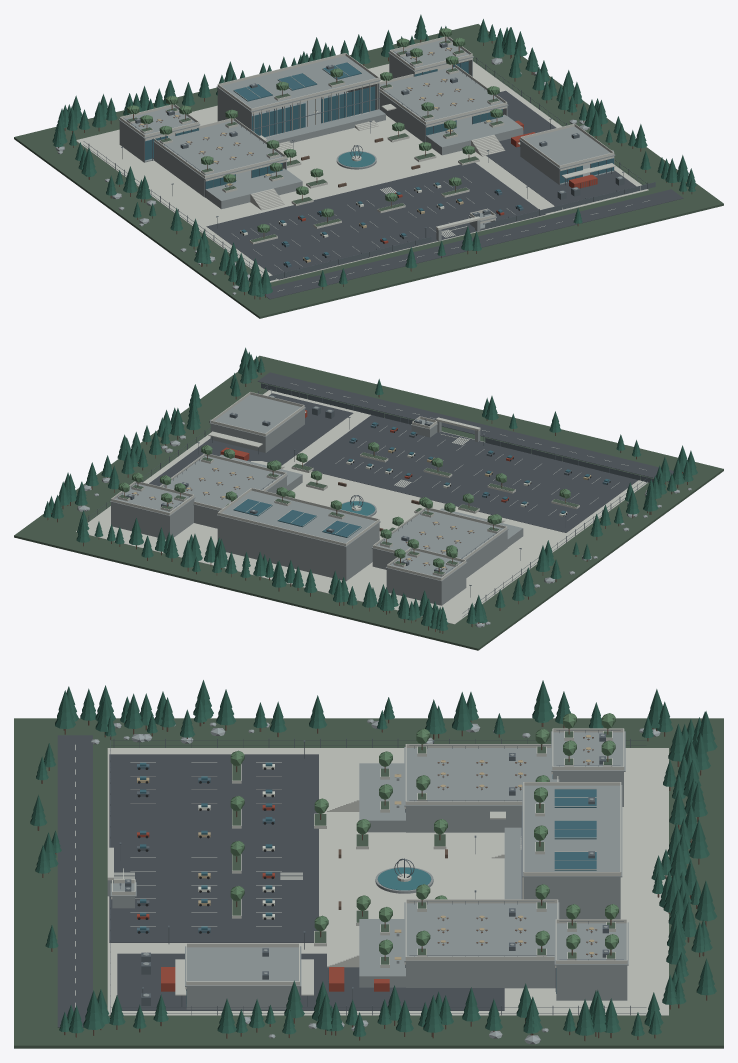
File: Campus.fbx
3 views of the same model, one above another, from view 1: azimuth 30°, elevation 25°; view 2: azimuth 150°, elevation 25°; view 3: azimuth 270°, elevation 25° (orthographic). The views are drawn at different scales.
Visible parts, largest first — view 1: Terrain, ParkingAsphalt, CampusPaving, OuterRoad, EastWing_Roof, ServiceAsphalt, WestWing_Roof, Atrium_Roof, Warehouse_Roof, Terrace, Terrace.001, AtriumEntryDeck (+8 smaller); view 2: Terrain, ParkingAsphalt, CampusPaving, OuterRoad, Atrium_Back, WestWing_Roof, EastWing_Roof, ServiceAsphalt, Atrium_Roof, Warehouse_Roof, EastAnnex_Back, WestAnnex_Back (+8 smaller); view 3: Terrain, ParkingAsphalt, CampusPaving, OuterRoad, EastWing_Roof, ServiceAsphalt, WestWing_Roof, Atrium_Roof, Warehouse_Roof, EastWing_Side.001, Atrium_Side.001, WestWing_Side.001 (+14 smaller).
Boxes of the visible parts, box(x1,y1,x2,y2) form: Terrain: box(14, 24, 723, 318); ParkingAsphalt: box(206, 162, 545, 279); CampusPaving: box(76, 61, 648, 282); OuterRoad: box(264, 189, 683, 299); EastWing_Roof: box(379, 67, 508, 125); ServiceAsphalt: box(486, 90, 636, 207); WestWing_Roof: box(153, 120, 287, 179); Atrium_Roof: box(216, 55, 380, 112); Warehouse_Roof: box(519, 126, 615, 169); Terrace: box(205, 168, 302, 209); Terrace.001: box(426, 114, 523, 155); AtriumEntryDeck: box(264, 109, 385, 143); Terrain: box(14, 355, 723, 650); ParkingAsphalt: box(303, 415, 638, 532); CampusPaving: box(76, 390, 647, 624); OuterRoad: box(257, 372, 673, 481); Atrium_Back: box(218, 516, 345, 580); WestWing_Roof: box(371, 509, 508, 560); EastWing_Roof: box(163, 455, 287, 511); ServiceAsphalt: box(149, 393, 353, 486); Atrium_Roof: box(216, 490, 380, 547); Warehouse_Roof: box(209, 394, 305, 437); EastAnnex_Back: box(111, 502, 169, 539); WestAnnex_Back: box(387, 568, 441, 605); Terrain: box(14, 718, 723, 1048); ParkingAsphalt: box(109, 754, 318, 942); CampusPaving: box(107, 748, 668, 1015); OuterRoad: box(57, 735, 92, 1027); EastWing_Roof: box(404, 902, 559, 962); ServiceAsphalt: box(117, 953, 504, 1010); WestWing_Roof: box(404, 747, 559, 806); Atrium_Roof: box(522, 785, 622, 877); Warehouse_Roof: box(185, 946, 301, 986); EastWing_Side.001: box(406, 962, 555, 988); Atrium_Side.001: box(524, 877, 620, 919); WestWing_Side.001: box(406, 806, 522, 832).
Bounding box in the file's own units: 24010 × 2738 × 22000.
